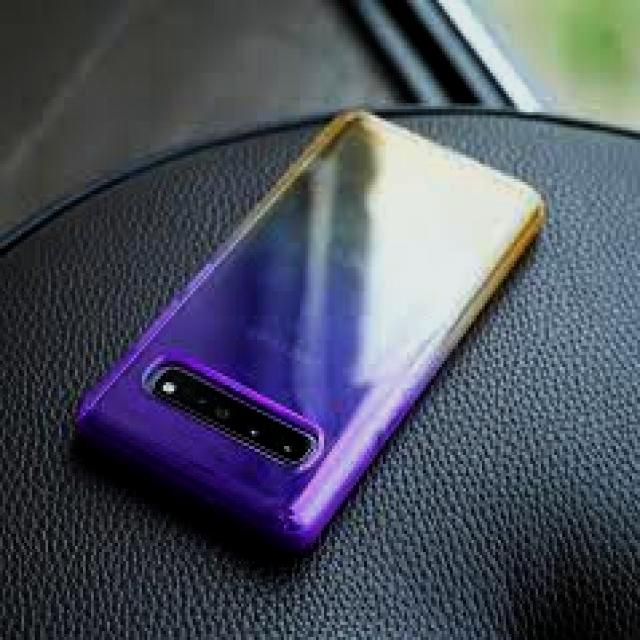lens: (140, 354, 325, 473)
phone: (50, 81, 555, 550)
